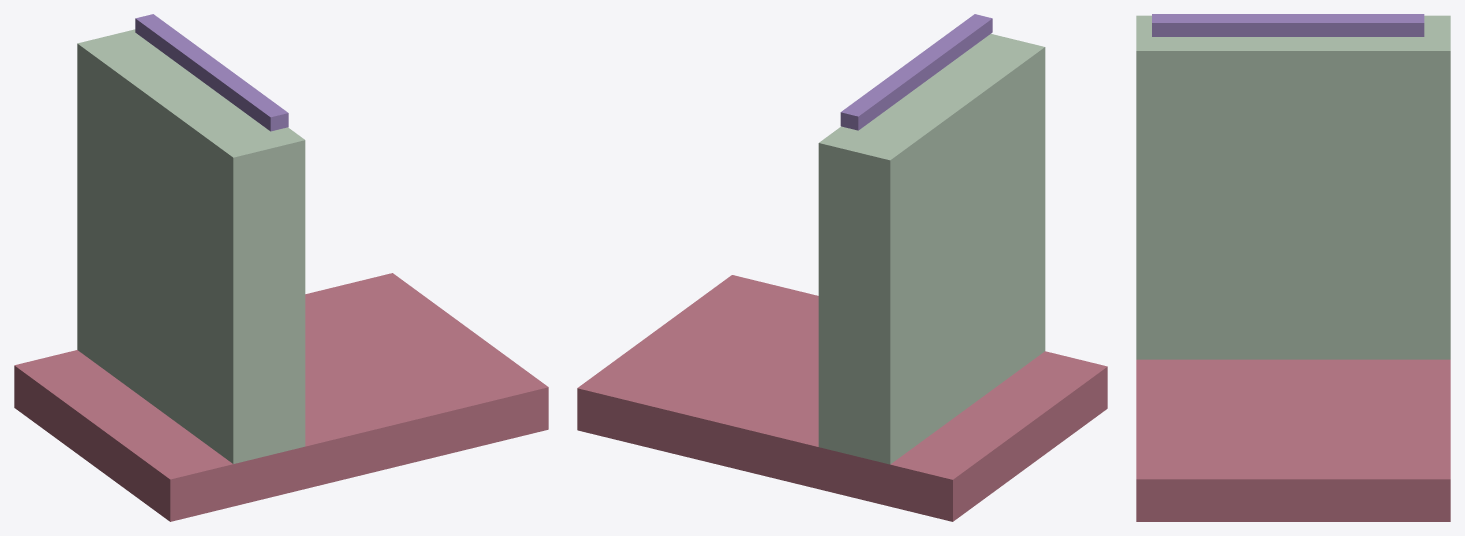
Rendered from 199503_pred.glb.
3 views of the same model, side by side, from view 1: azimuth 30°, elevation 25°; view 2: azimuth 150°, elevation 25°; view 3: azimuth 270°, elevation 25° (orthographic).
Parts seen in each view (by area): view 1: world; view 2: world; view 3: world.
Boxes of the visible parts, left/top/right/bottom form: world: left=14, top=14, right=548, bottom=521; world: left=577, top=14, right=1107, bottom=521; world: left=1136, top=14, right=1450, bottom=521.
Size of the model in its own units: 8.4 by 7.9 by 6.
